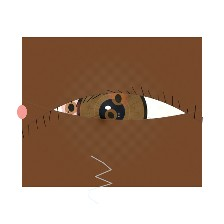foreign_body_visible: (51, 91, 92, 124)
